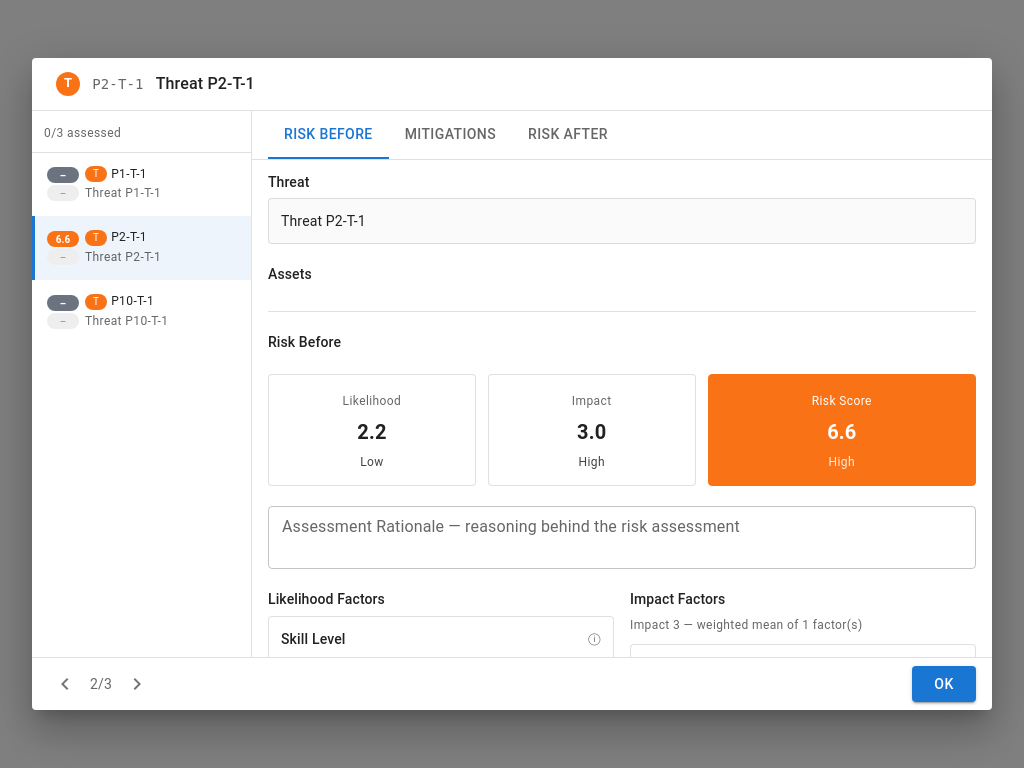
Test case: RiskDialog — order and navigation › a click in the side list switches the risk and saves the previous one
Click the text "P1-T-1".
click(129, 174)  # box [111,164,147,184]
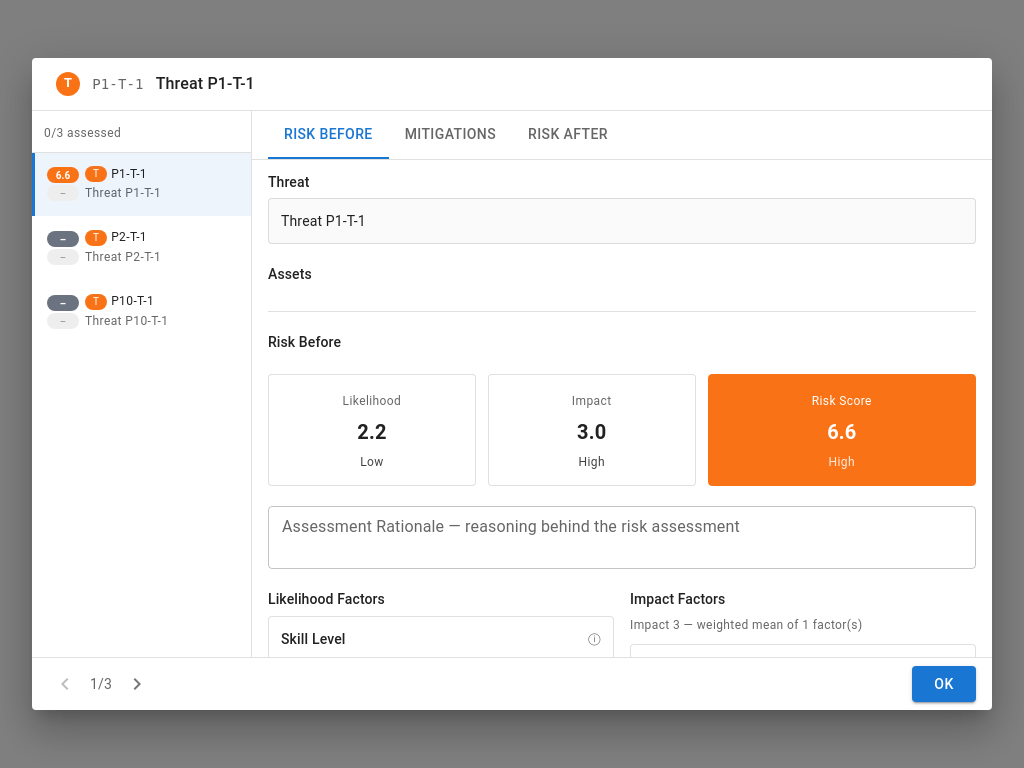
expect the heading "T P1-T-1 Threat P1-T-1" is shown: met, box [32,58,992,111]
